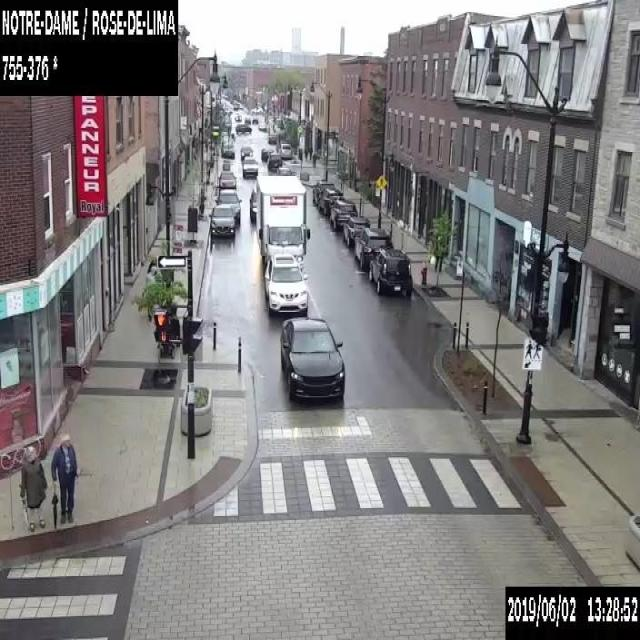pedestrian: (50, 433, 76, 529), (18, 446, 47, 530), (312, 151, 316, 168), (308, 145, 312, 160), (304, 145, 308, 160)
vehicle: (280, 316, 344, 402), (256, 174, 310, 266), (264, 254, 307, 316), (368, 248, 412, 294), (353, 227, 392, 268), (214, 188, 241, 225), (208, 206, 234, 240), (342, 216, 370, 246), (329, 199, 357, 229), (317, 186, 343, 214), (311, 180, 334, 206), (217, 170, 236, 188), (241, 156, 257, 177), (266, 152, 282, 170), (249, 186, 256, 222), (277, 142, 292, 158), (260, 147, 273, 160), (222, 143, 234, 157), (235, 123, 251, 133), (240, 145, 252, 158), (268, 133, 276, 142), (258, 122, 265, 129), (223, 119, 230, 126), (244, 115, 250, 123), (251, 116, 257, 123), (235, 114, 241, 119), (234, 111, 238, 118), (233, 104, 237, 109)
